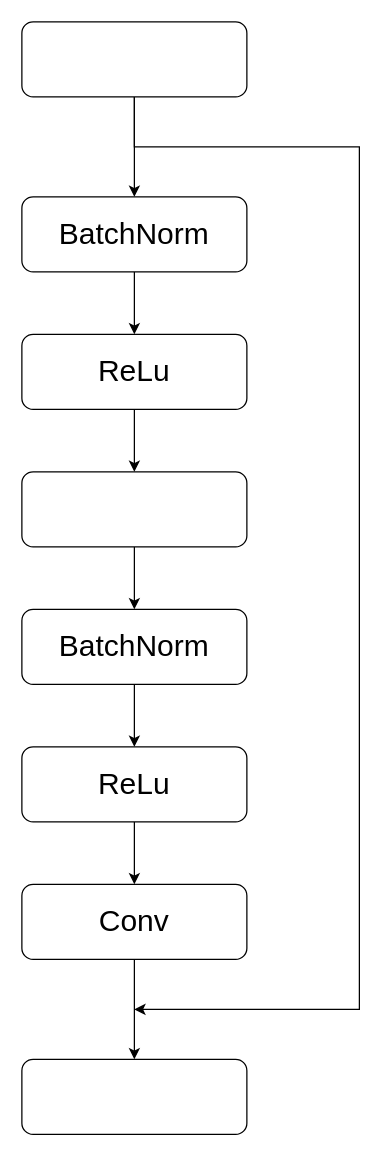
Image size: 391x1156. Some labels were removed from this diagram. The shapes that lost their labels are listed below. From the top down, each one's centre as x and y in pixels, then its label:
At point 134,59: "Input".
At point 134,509: "Conv_dw".
At point 134,1096: "Output".
